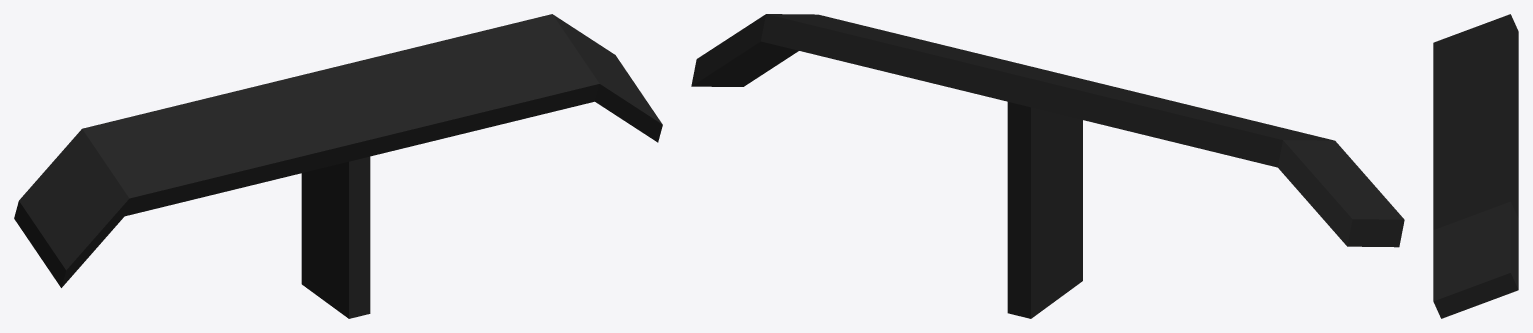
Rendered from spoiler3.glb.
The picture shows the model from 3 angles, left to right: view 1: azimuth 30°, elevation 25°; view 2: azimuth 150°, elevation 25°; view 3: azimuth 270°, elevation 25°; orthographic projection. The views are drawn at different scales.
Visible parts, largest first — view 1: spoiler3; view 2: spoiler3; view 3: spoiler3.
Boxes of the visible parts, x1,y1,x2,y2 form: spoiler3: (14, 14, 662, 318); spoiler3: (691, 14, 1404, 318); spoiler3: (1433, 14, 1518, 318).
Bounding box in the file's own units: 2.34 × 0.8018 × 0.3546.
Materials: 1 (1 with a texture image).
